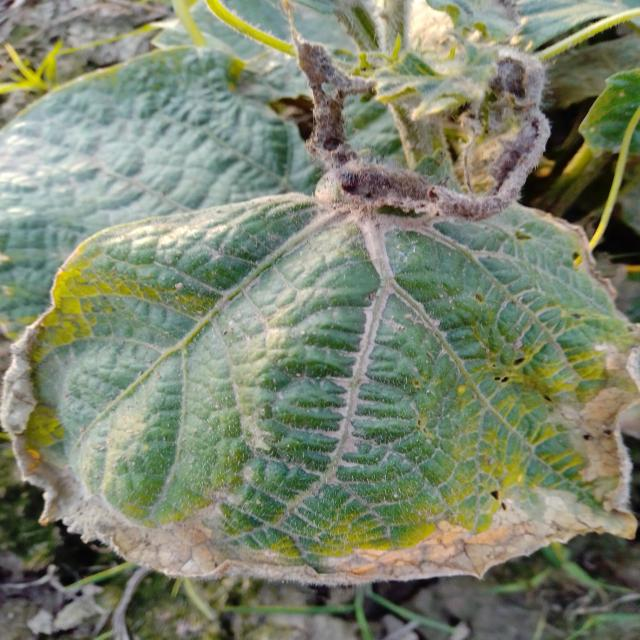cucumber_gummy: (0, 0, 640, 587)
